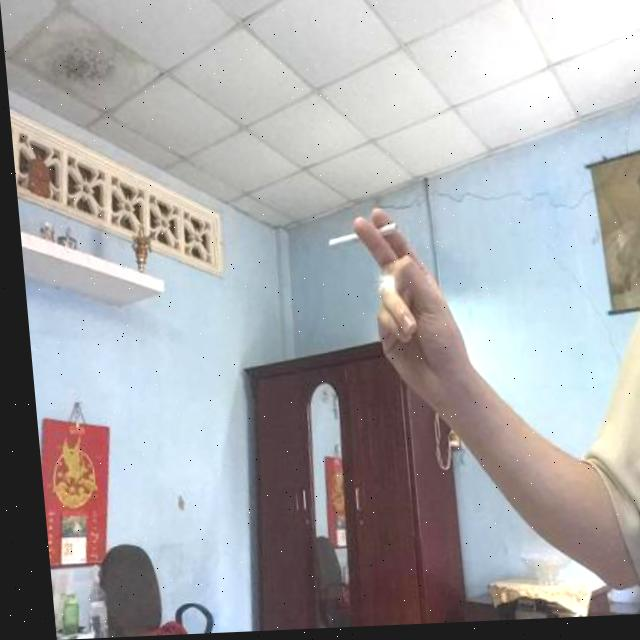cigarette: (320, 226, 395, 252)
